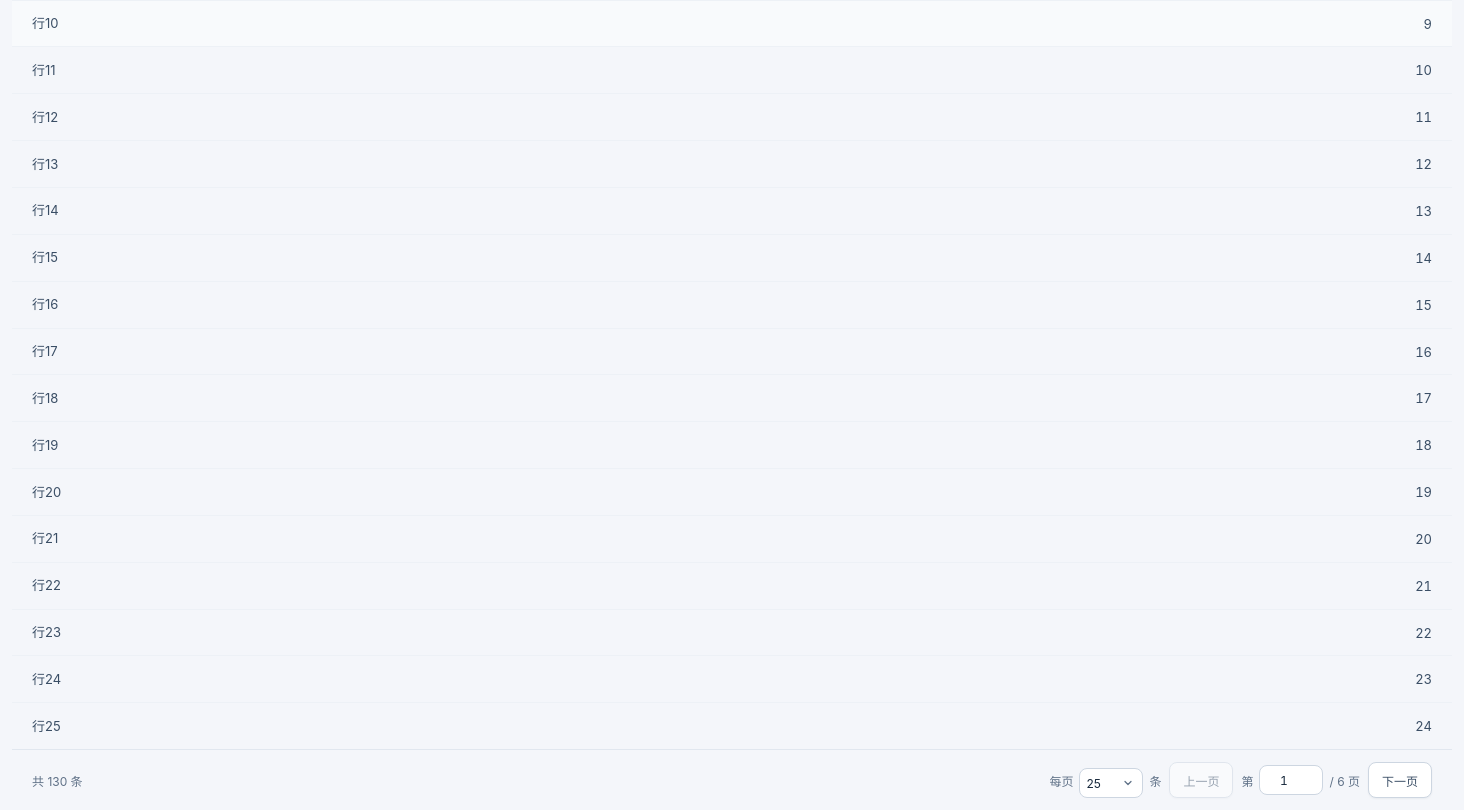
Test: table paging › changes rows per page, remembers it for the session, and jumps to a page
(page scrolled)
expect the text "共 130 条" is shown: met, box [32, 772, 83, 789]
expect the text "/ 6 页" is shown: met, box [1241, 765, 1360, 795]
Replace the text in the number field named "跳转到页码" with "4": (1291, 780) [1259, 765, 1323, 795]
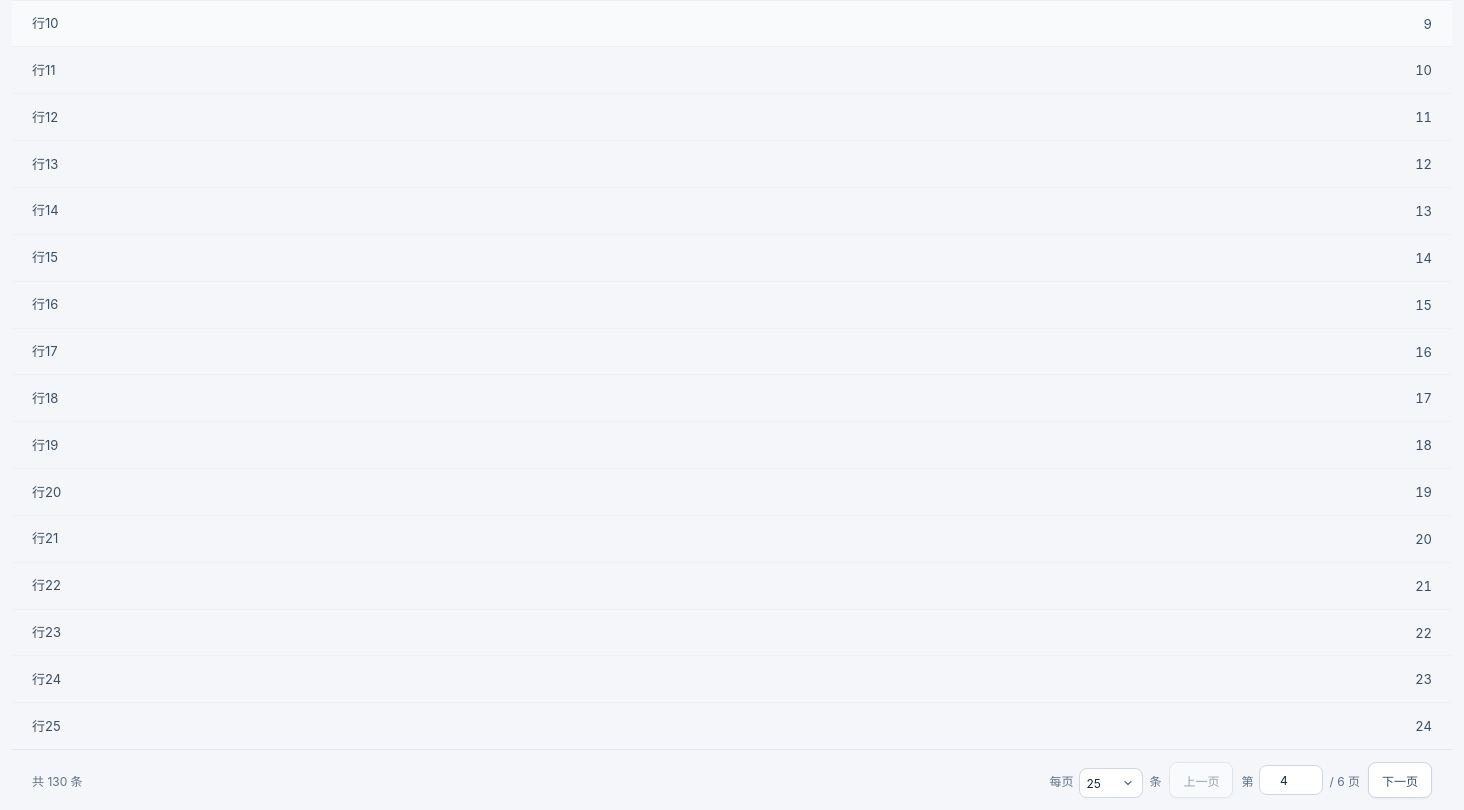
Submit the text "/ 6 页", box [1241, 765, 1360, 795]
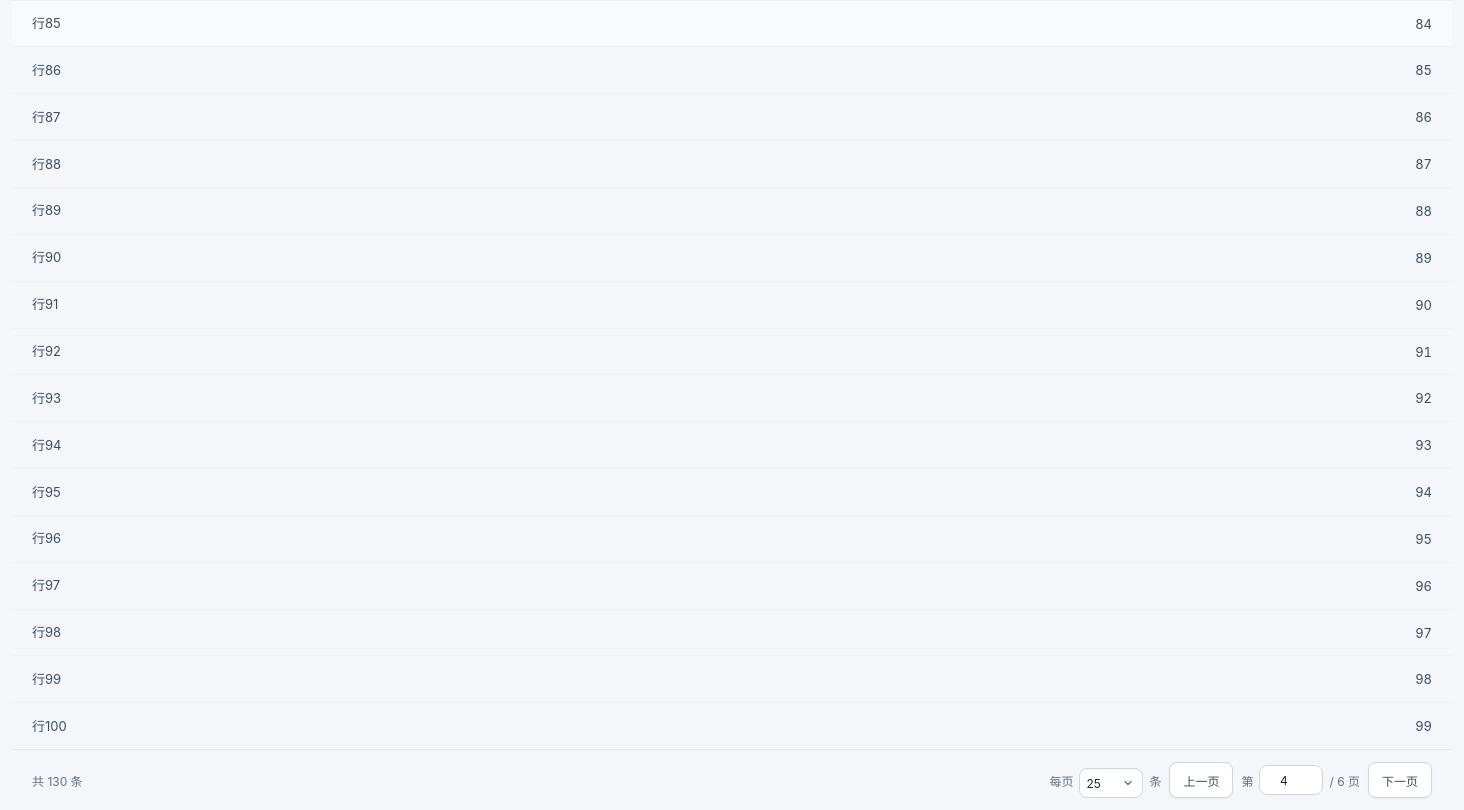
// Out-of-range input clamps to the last page.
Replace the text in the number field named "跳转到页码" with "99": (1291, 780) [1259, 765, 1323, 795]
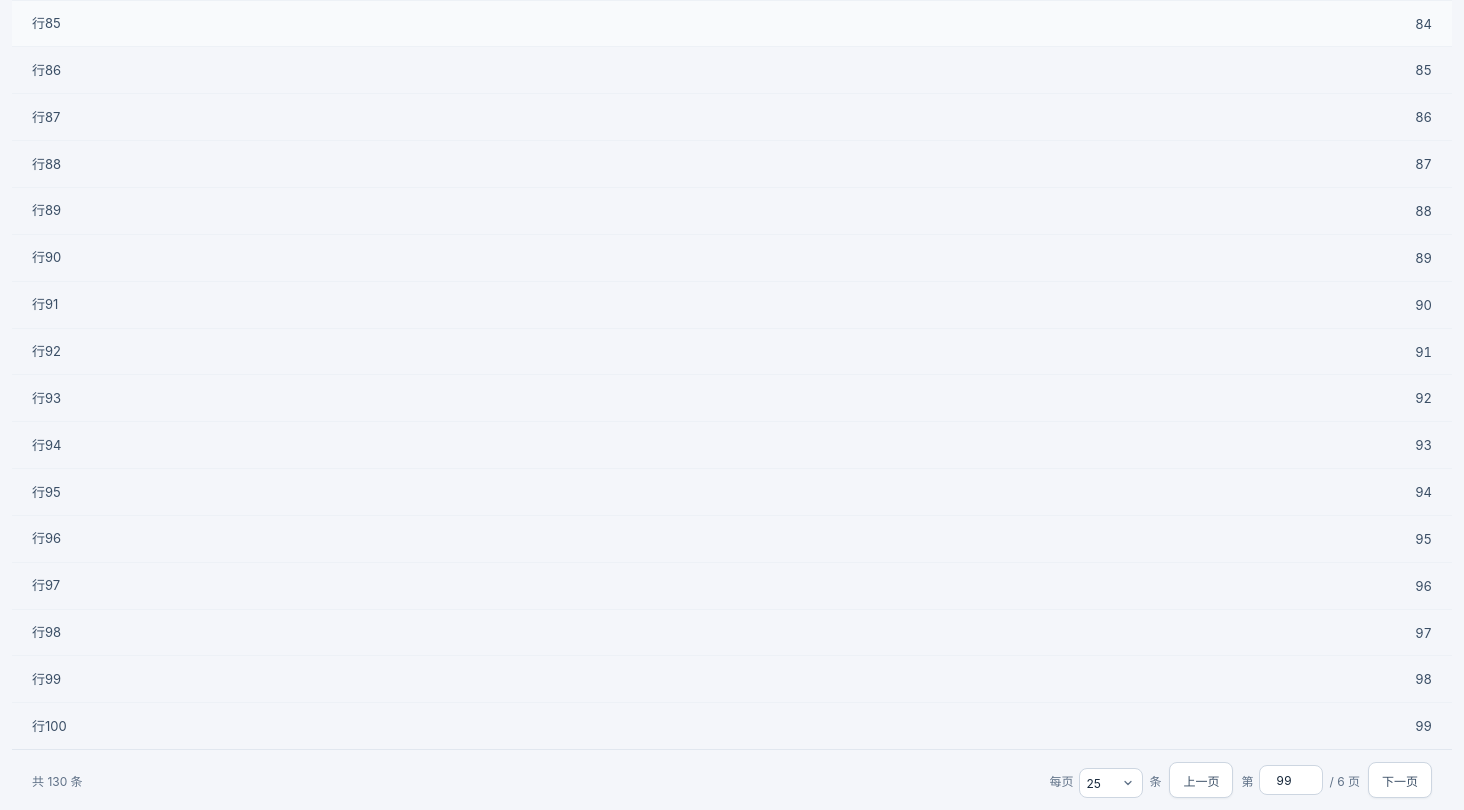
Submit the text "/ 6 页", box [1241, 765, 1360, 795]
(page scrolled)
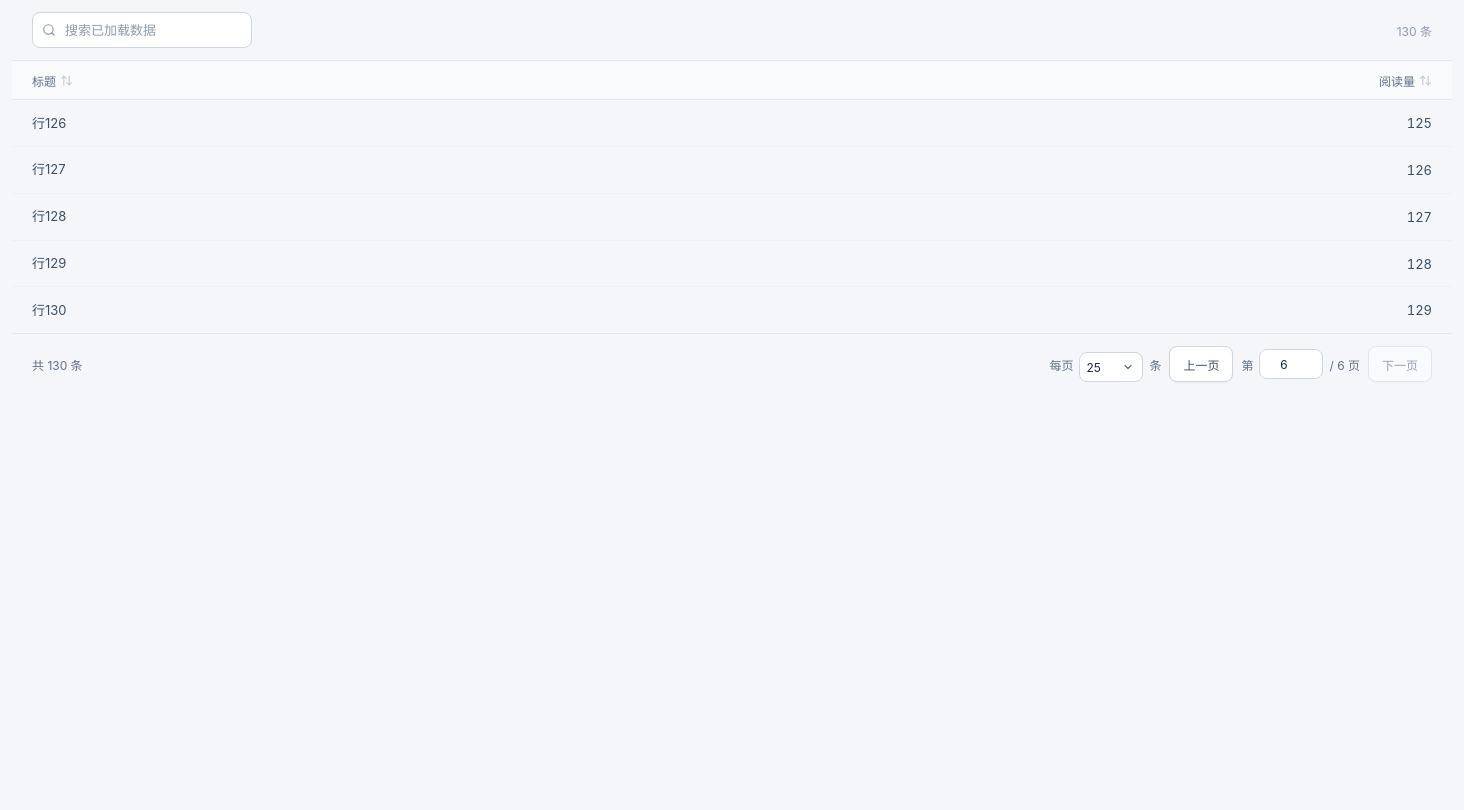
expect the number field named "跳转到页码" holds "6": met, box [1259, 349, 1323, 379]
expect the text "行126" is shown: met, box [32, 114, 66, 130]
Select "50" in the dropdown named "每页行数": (1111, 367) [1079, 352, 1143, 382]
(page scrolled)
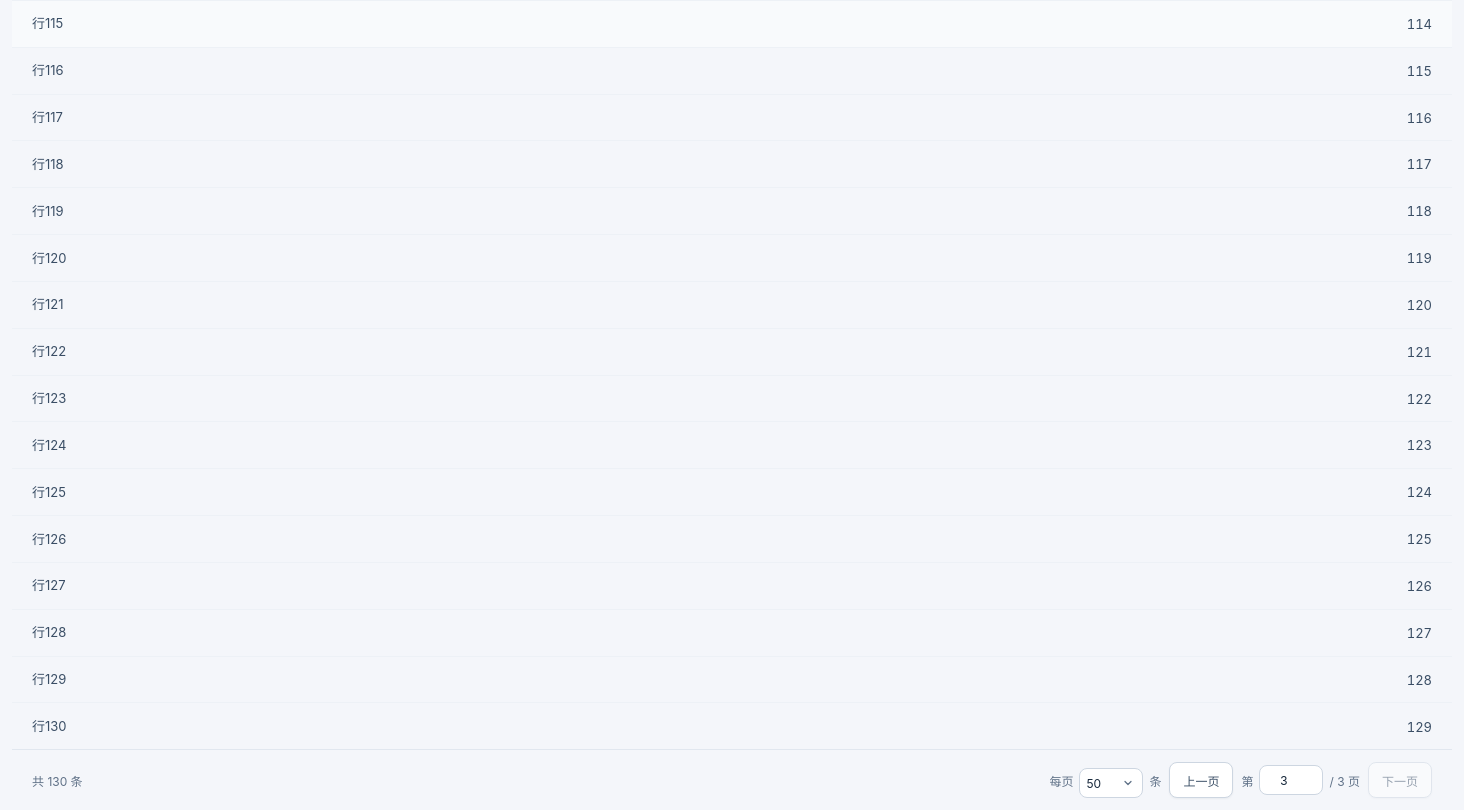
expect the number field named "跳转到页码" holds "3": met, box [1260, 765, 1324, 795]
